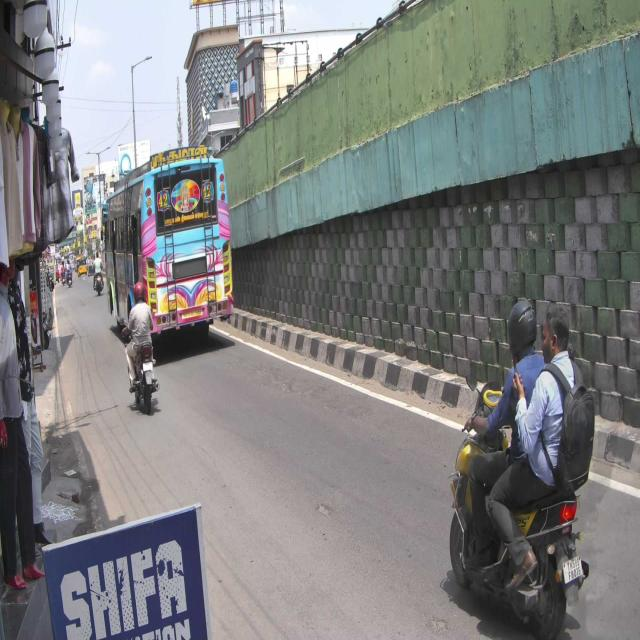double_rider: (448, 295, 596, 640)
